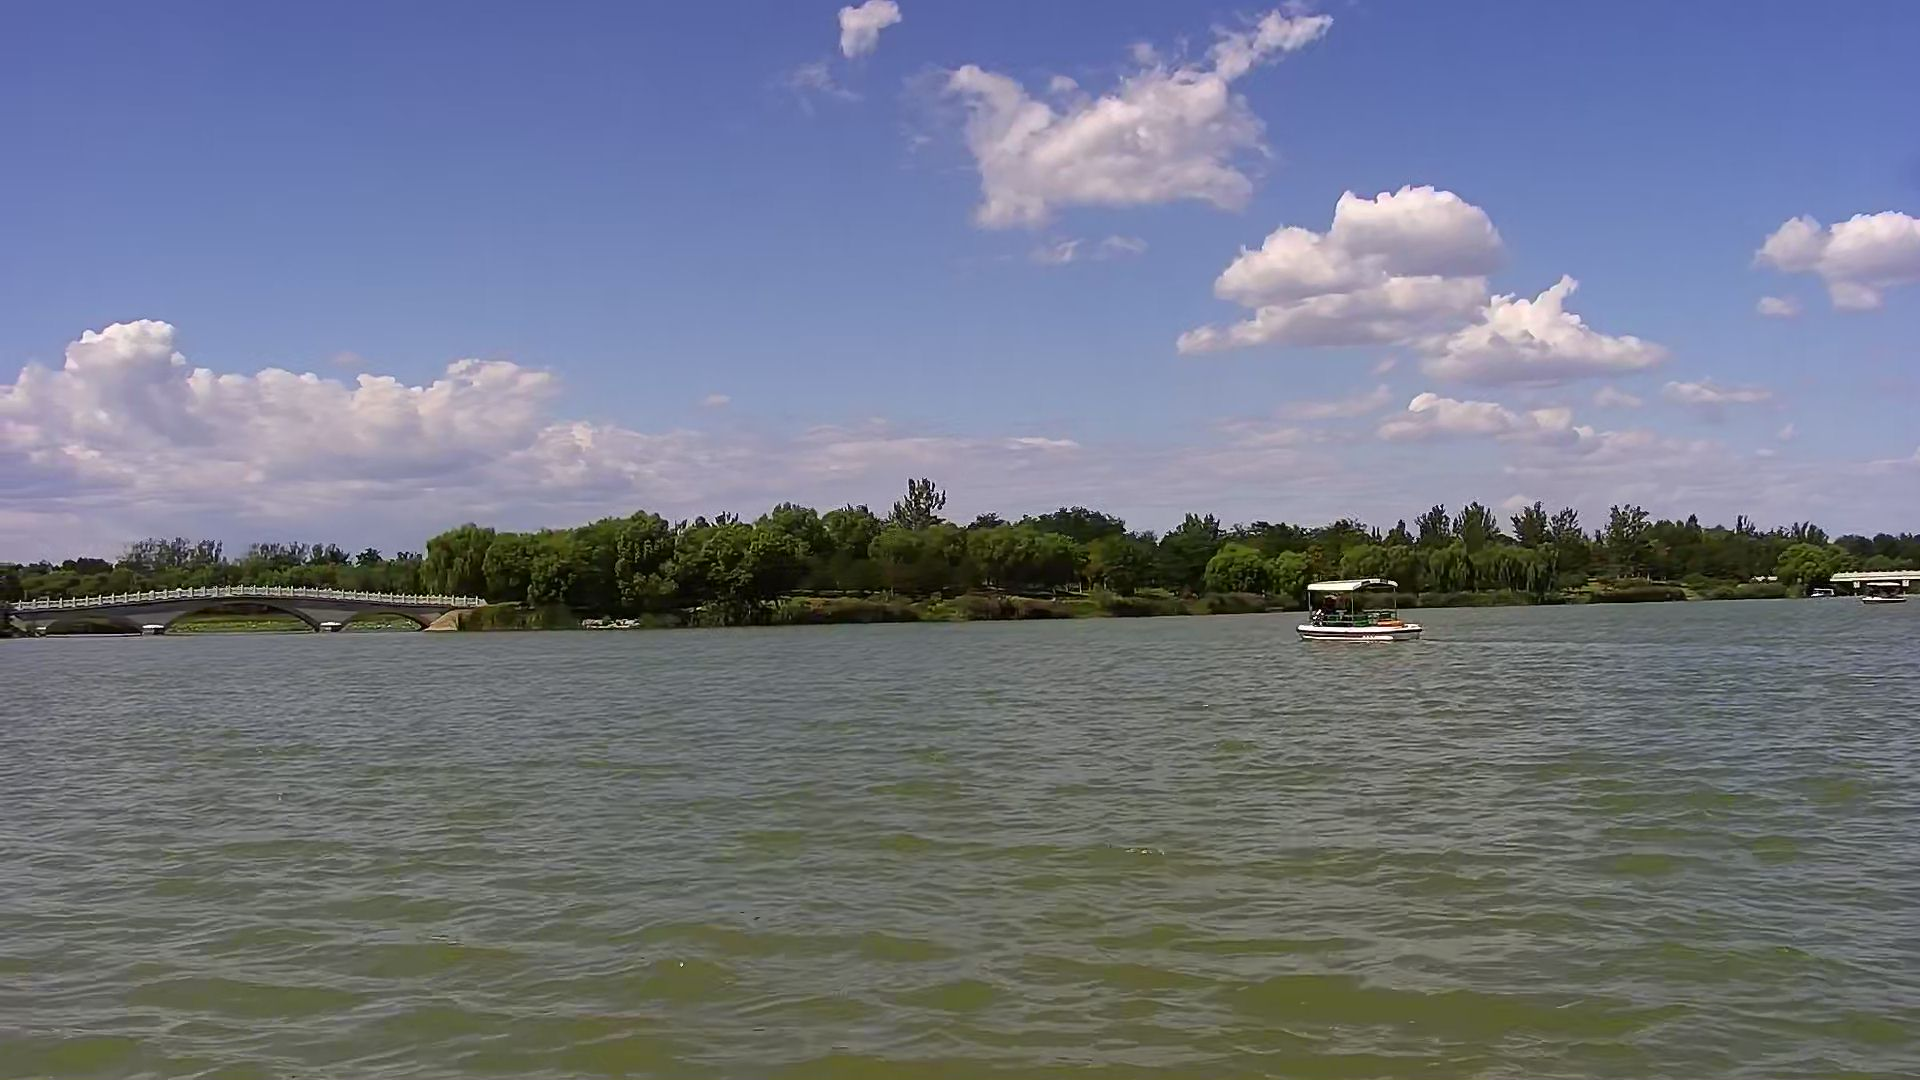boat: (1294, 575, 1419, 642)
bridge: (3, 587, 462, 638), (1834, 563, 1917, 593)
